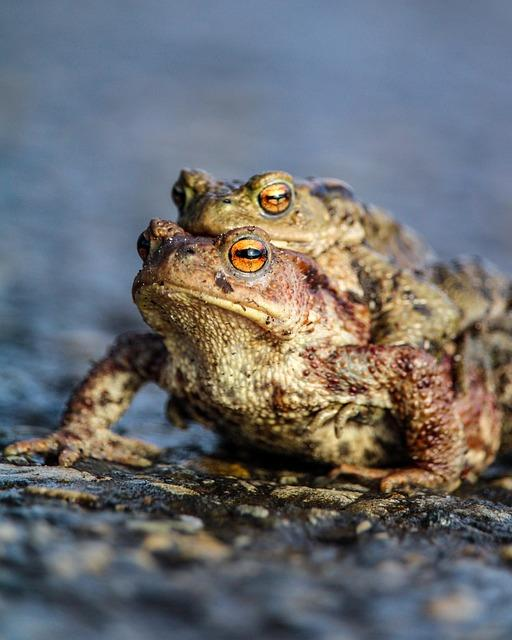Non_Gorille: (33, 39, 497, 598)
